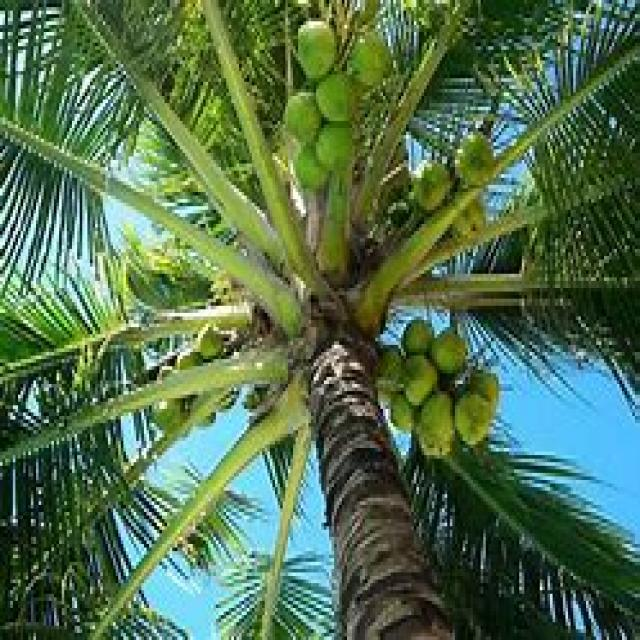coconuts: (281, 17, 387, 185), (380, 315, 496, 457)
